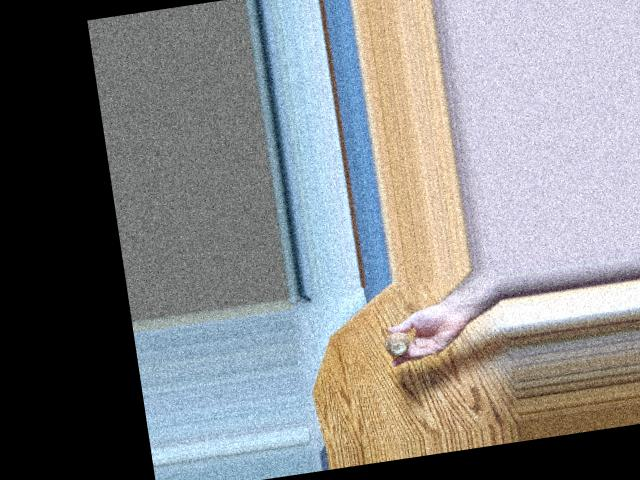sweet_potato: (382, 327, 408, 357)
